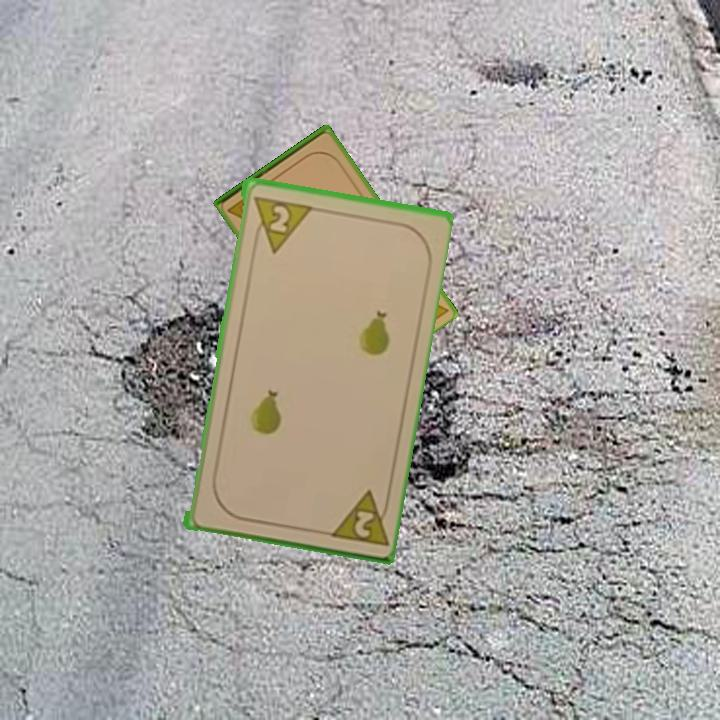2p: (323, 486, 393, 548), (249, 192, 312, 256)
